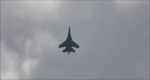maybay_muctieu: (56, 24, 81, 54)
